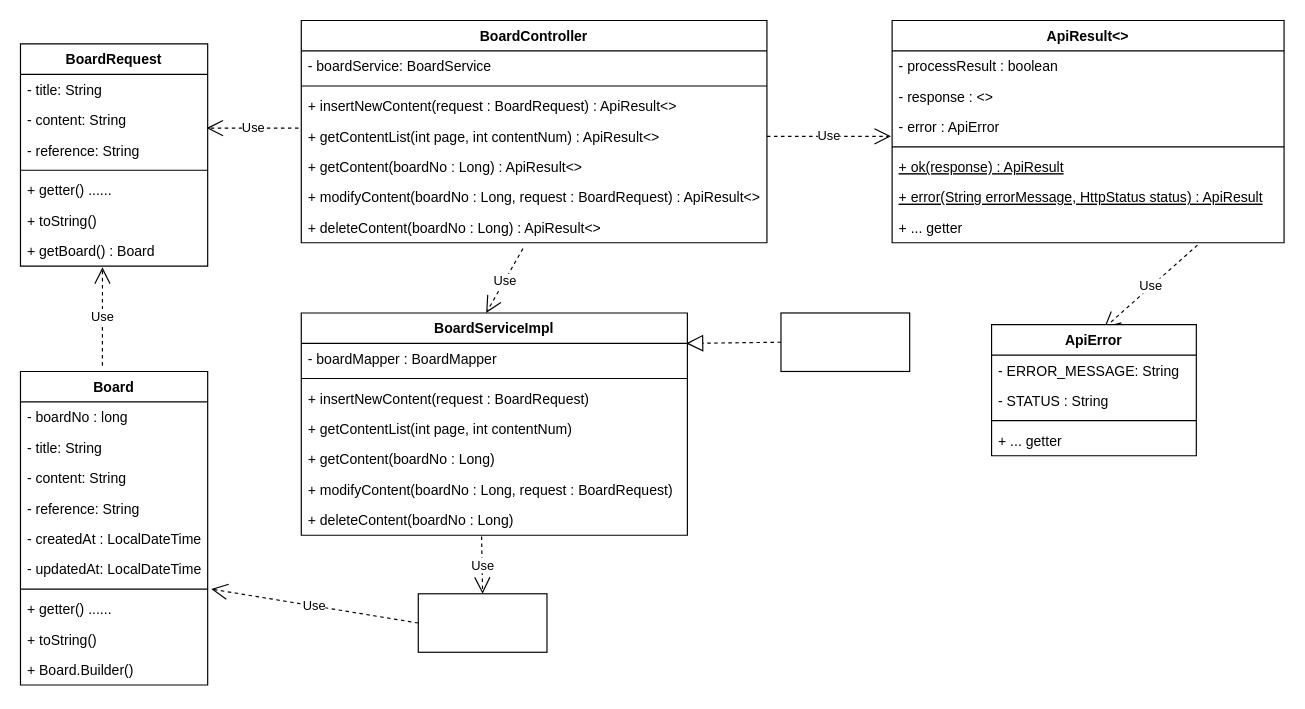
This 1305x709 diagram has some shape labels left out. The shapes that lost their labels are listed below. From the top down, each one's centre as x and y in pixels, then its label:
At pixel 845 341: "«interface» BoardService".
At pixel 482 622: "«interface» BoardMapper".
